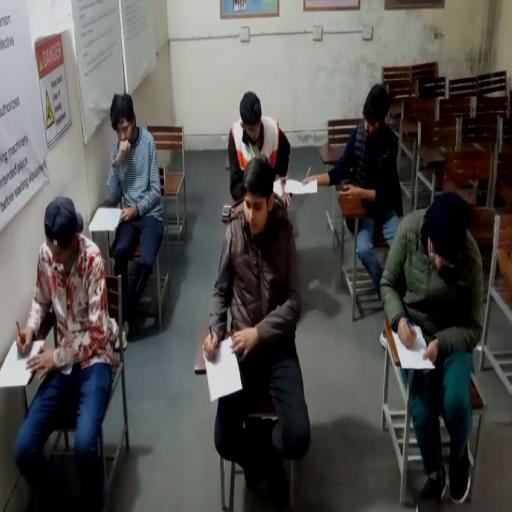paper: (203, 335, 243, 401), (0, 338, 44, 388), (393, 325, 435, 370), (89, 207, 123, 232), (290, 177, 318, 195), (272, 176, 286, 198)
